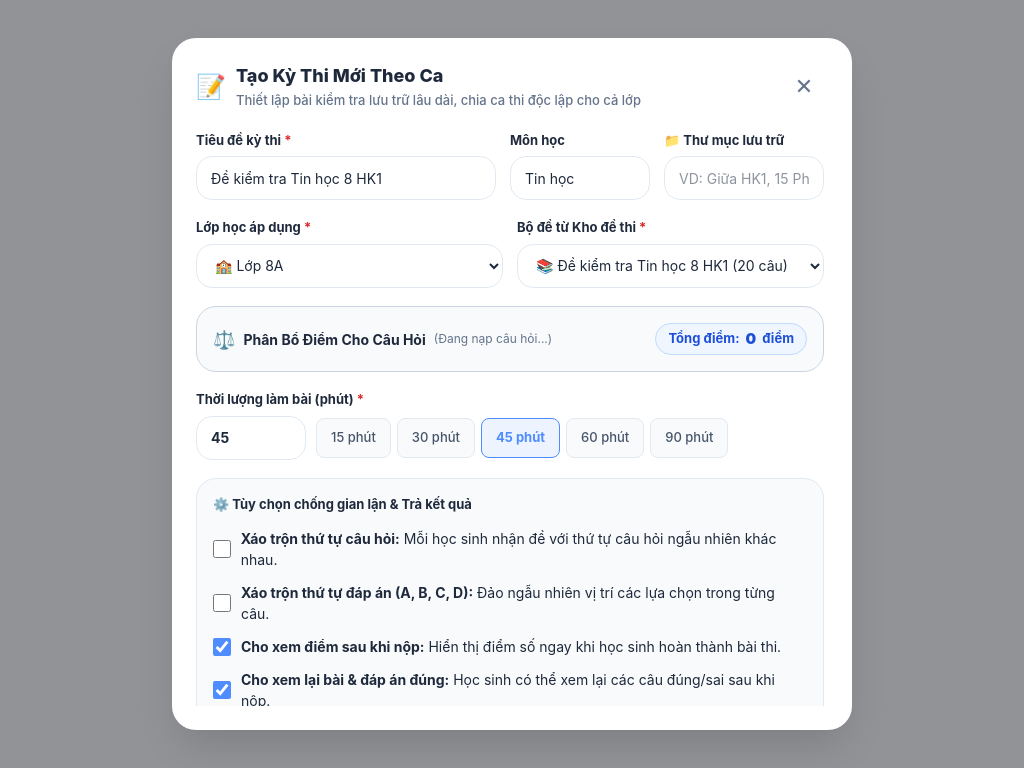
Scenario: CreateExamModal Component › báo lỗi khi để trống tiêu đề kỳ thi
Xóa tiêu đề nếu có
Clear the field with placeholder "VD: Kiểm tra 1 tiết Tin học - Giữa HK1" below "Tiêu đề kỳ thi" at coordinates (346, 178), box [196,156,496,200]
(page scrolled)
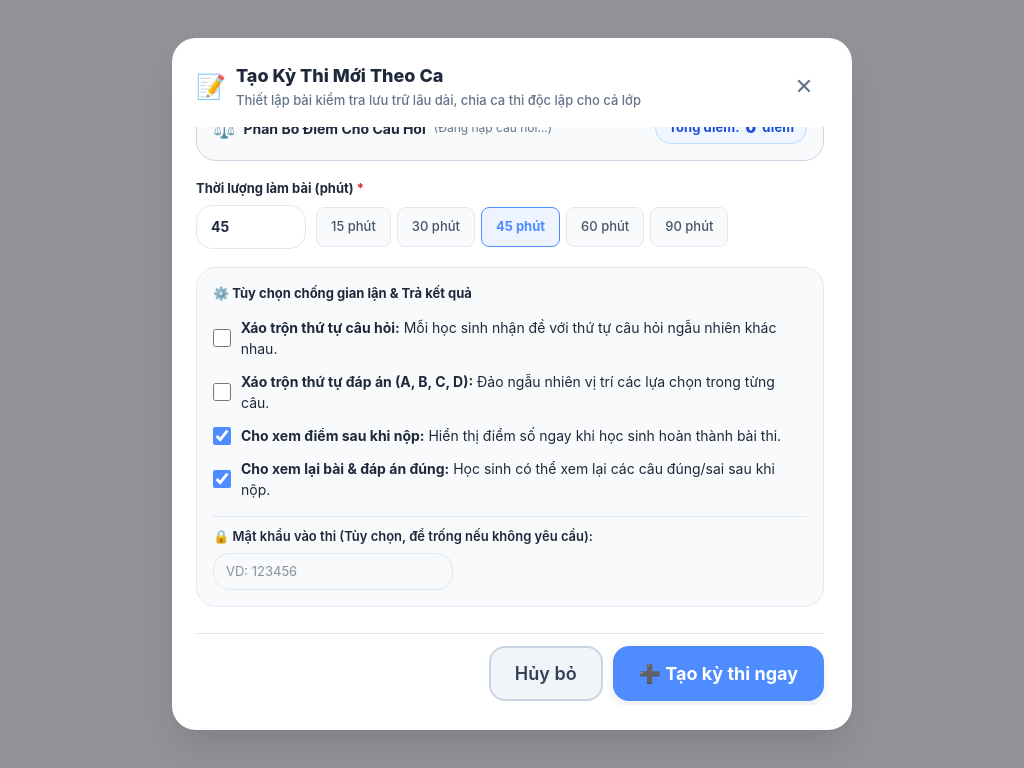
Bấm nút Tạo kỳ thi
Click the button "➕ Tạo kỳ thi ngay".
click(718, 674)  # box [613,646,824,701]
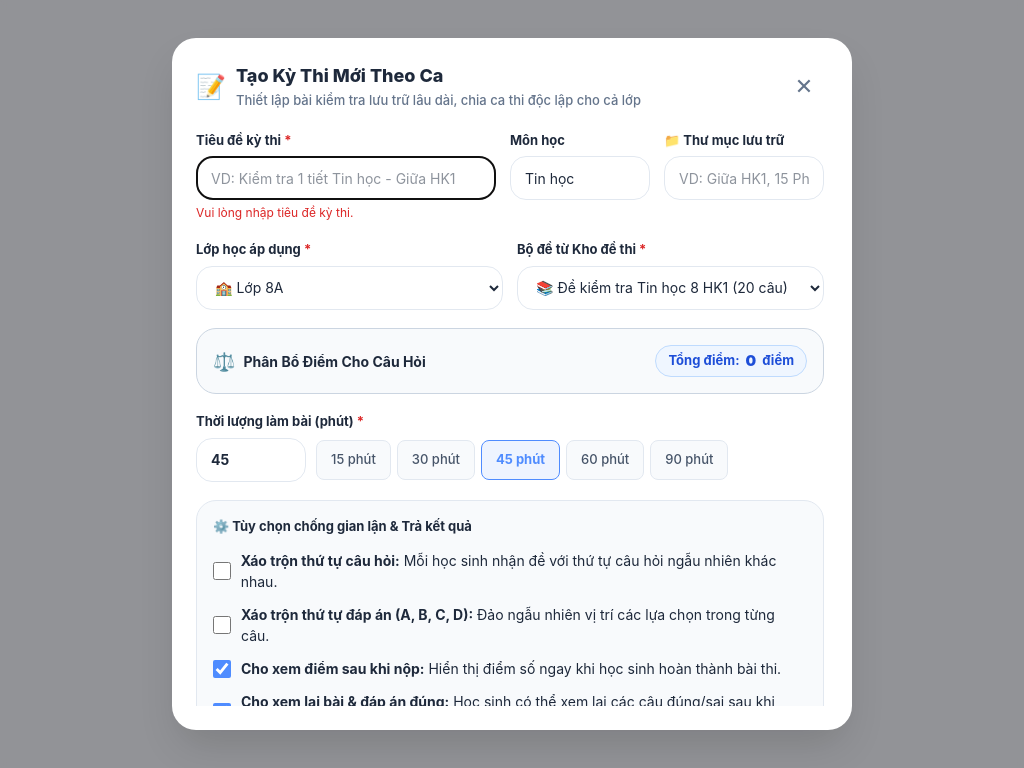
expect the text "Vui lòng nhập tiêu đề kỳ thi." is shown: met, box [196,205,353,220]
